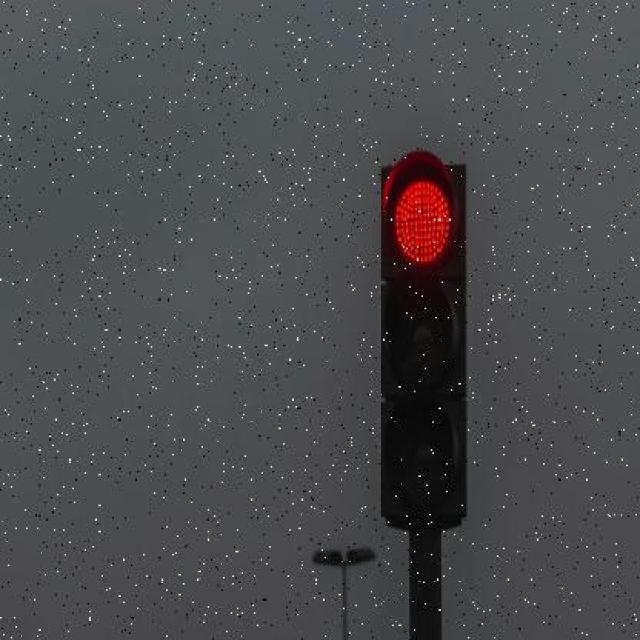red-light: (361, 145, 502, 552)
